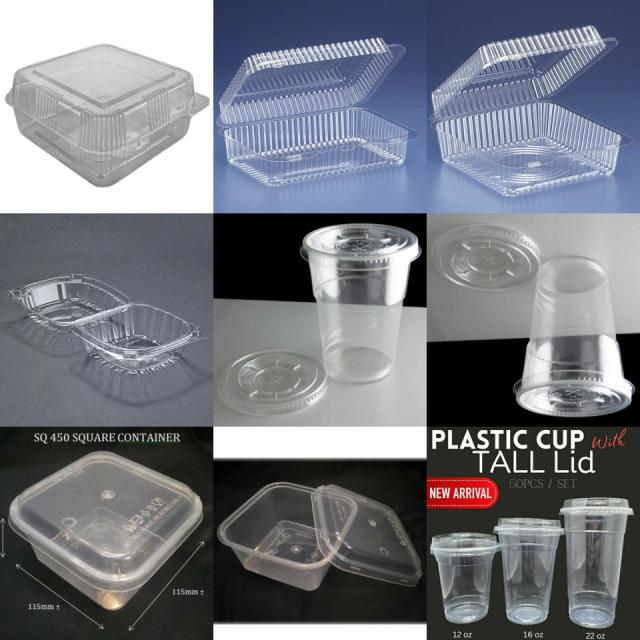Single-Use-Plastic: (430, 26, 631, 196), (9, 451, 202, 610), (216, 38, 418, 186), (6, 44, 209, 186), (5, 274, 209, 373), (514, 256, 634, 417), (300, 224, 420, 383), (219, 482, 356, 590), (311, 485, 421, 586), (560, 498, 632, 628), (219, 349, 330, 416), (494, 518, 564, 624), (432, 224, 542, 291), (430, 532, 500, 623)
